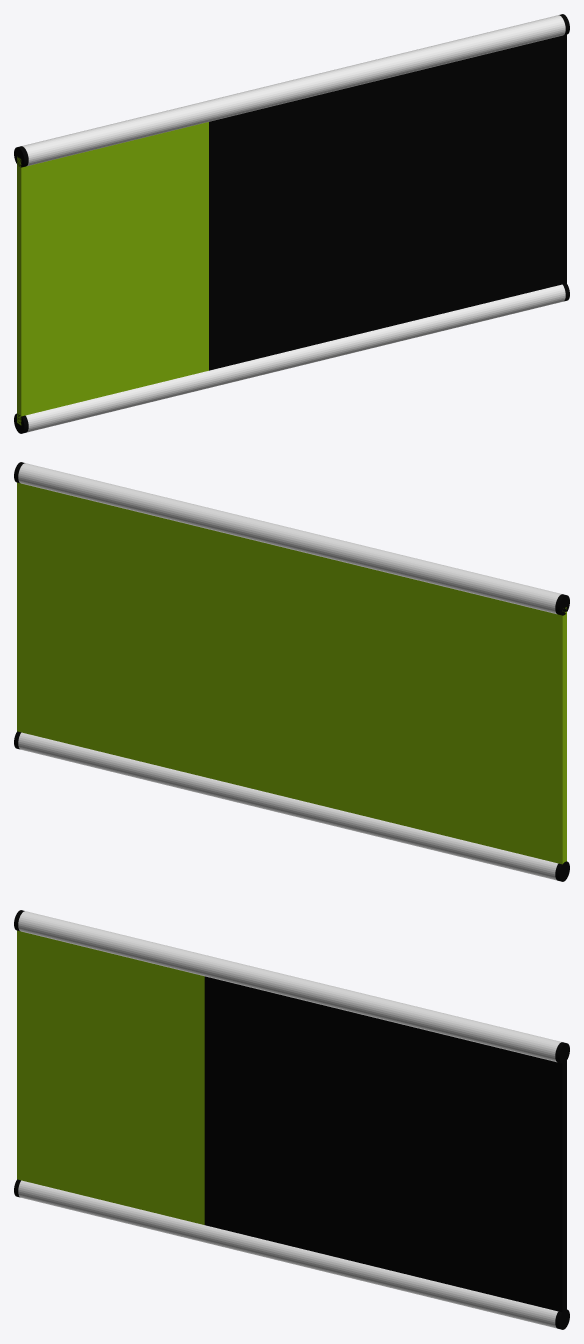
File: WSEI Tabliczka.fbx
3 renders of one model, top to bottom at view 1: azimuth 30°, elevation 25°; view 2: azimuth 150°, elevation 25°; view 3: azimuth 330°, elevation 25°, orthographic.
Visible parts, largest first — view 1: Cube, Cylinder, Cylinder.001; view 2: Cube, Cylinder, Cylinder.001; view 3: Cube, Cylinder, Cylinder.001.
Part boxes in pixels (box(x1,y1,x2,y2)): Cube: box(17, 34, 566, 425); Cylinder: box(14, 14, 569, 167); Cylinder.001: box(14, 283, 569, 433); Cube: box(17, 482, 566, 864); Cylinder: box(14, 462, 569, 615); Cylinder.001: box(14, 731, 569, 881); Cube: box(17, 930, 566, 1314); Cylinder: box(14, 910, 569, 1063); Cylinder.001: box(14, 1179, 569, 1329).
Size of the model in its own units: 3000 by 1499 by 100.
